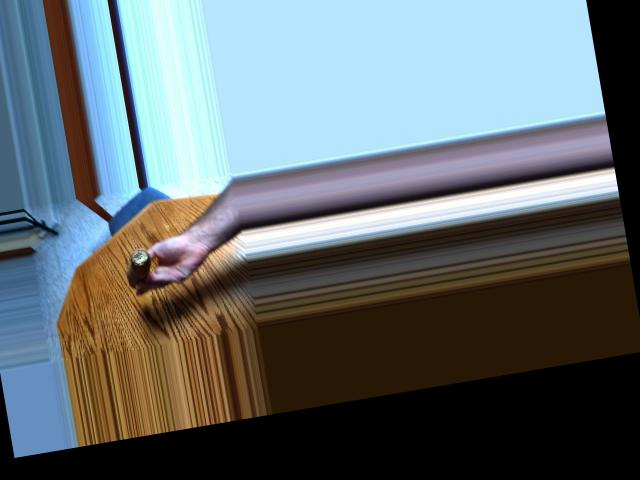sweet_potato: (121, 241, 161, 290)
